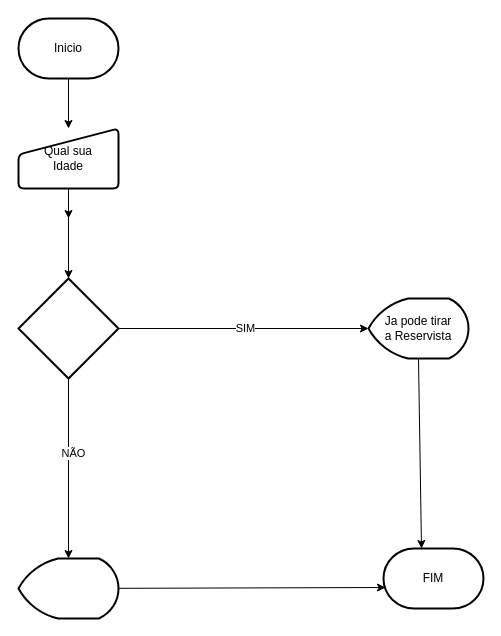
The diagram is 501 pixels wide and 636 high, and some of its shapes have lost their labels. The shapes that lost their labels are listed below. From the top down, each one's centre as x and y in pixels, then its label:
At (x=68, y=328): "Idade >=17".
At (x=68, y=588): "Ainda não pode tirar a Reservista".
